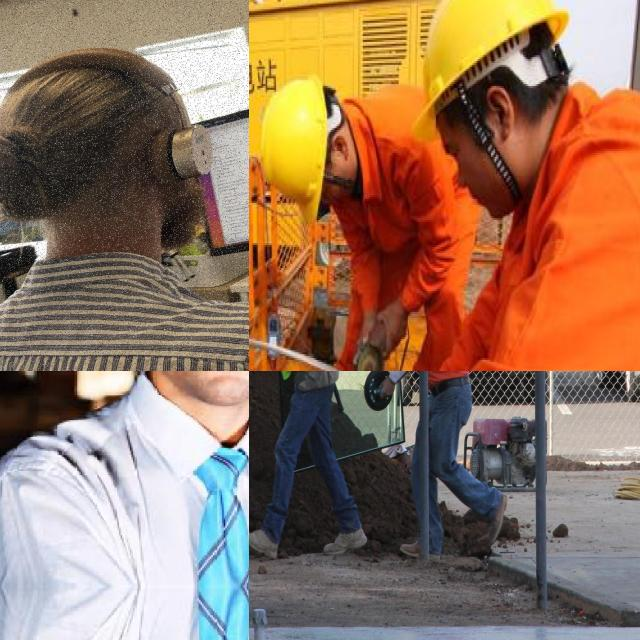Ear-protection: (0, 15, 249, 304)
No_Ear-Protection: (486, 85, 526, 149), (327, 121, 356, 161)
hand_noglove: (376, 374, 396, 409)
head_helmet: (417, 0, 568, 137), (261, 76, 327, 222)
person: (249, 371, 364, 558), (378, 371, 478, 548)
shoes: (474, 484, 511, 548), (323, 518, 369, 558), (249, 523, 281, 563)
